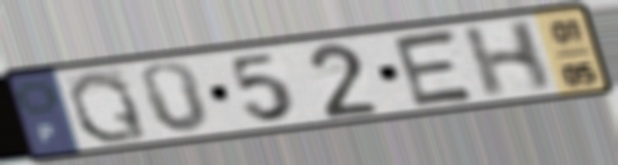0: (138, 60, 213, 137)
2: (306, 39, 384, 122)
5: (229, 49, 298, 125)
E: (389, 26, 480, 110)
H: (459, 17, 556, 101)
Q: (64, 68, 153, 146)
